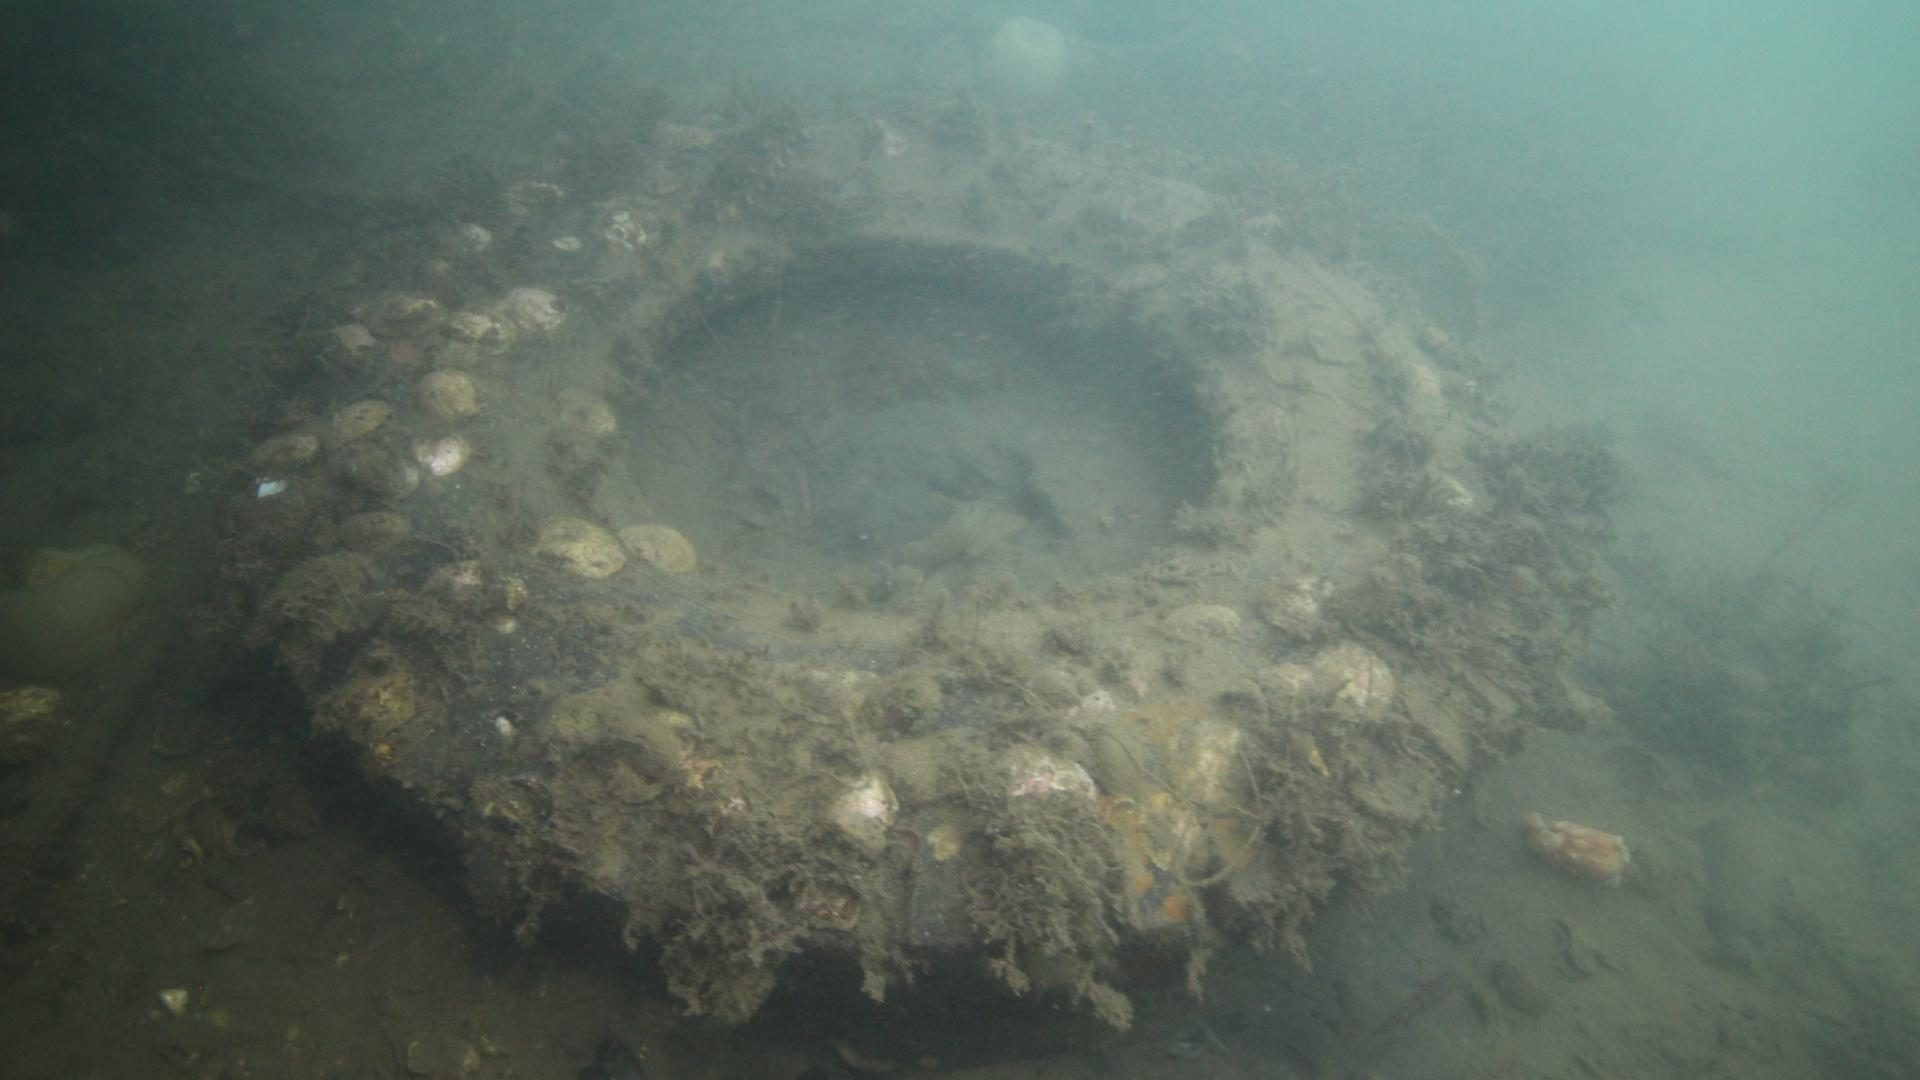tire: (214, 96, 1543, 1065)
